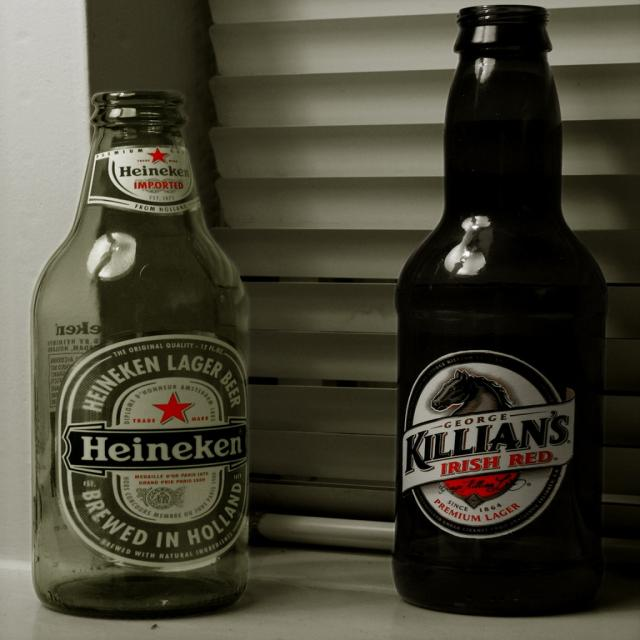heineken: (59, 332, 250, 574)
